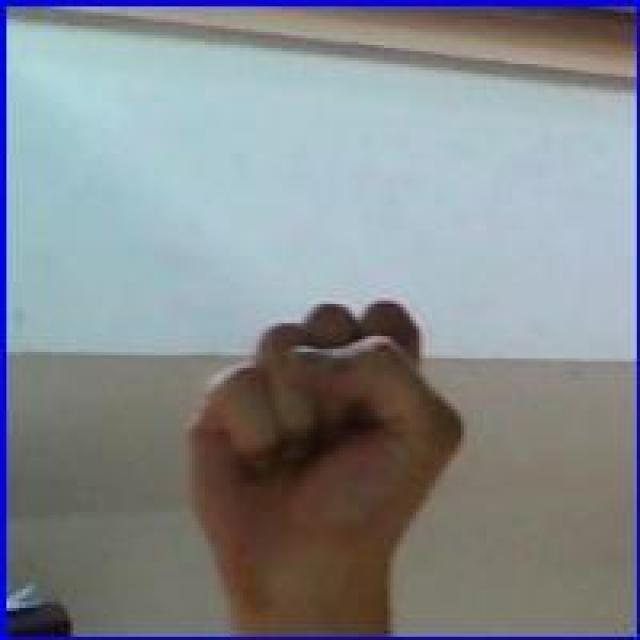S: (181, 292, 469, 582)
